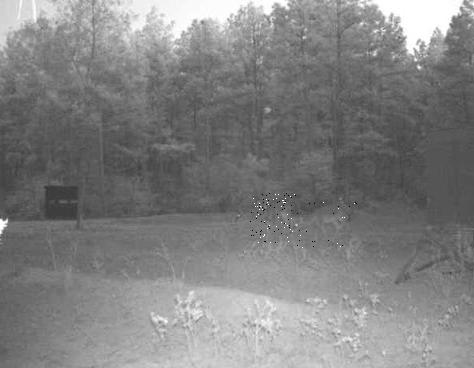Deer: (292, 202, 359, 248), (250, 193, 297, 244)
